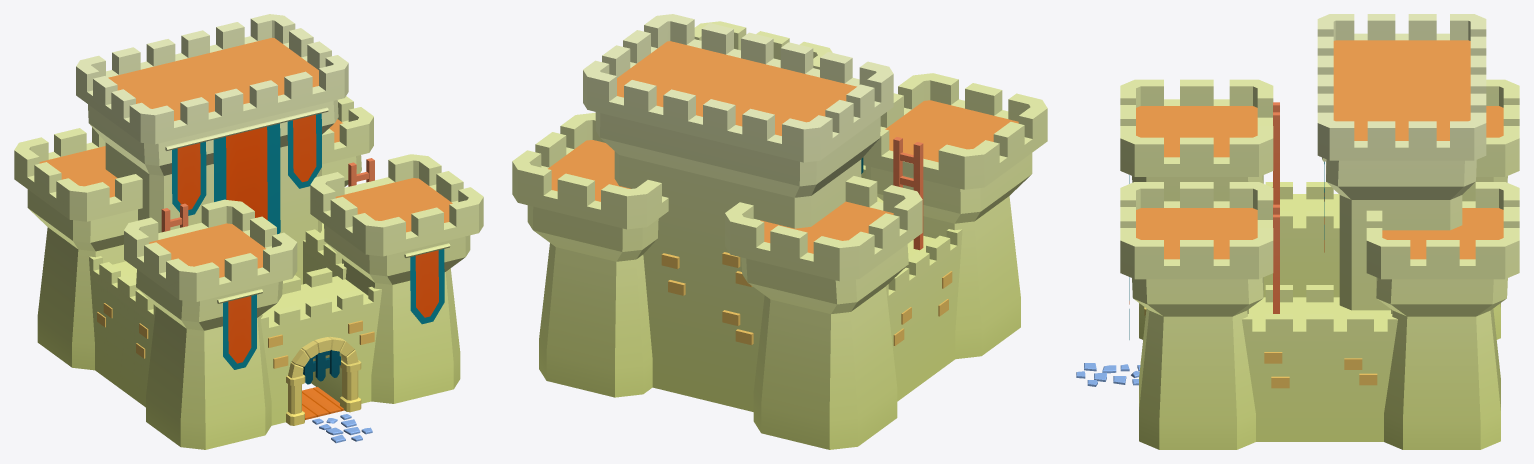
The model's file is Structure_Townhall_lvl01.fbx.
3 renders of one model, left to right at view 1: azimuth 30°, elevation 25°; view 2: azimuth 150°, elevation 25°; view 3: azimuth 270°, elevation 25°, orthographic. The views are drawn at different scales.
Parts seen in each view (by area): view 1: Structure_Townhall_lvl01; view 2: Structure_Townhall_lvl01; view 3: Structure_Townhall_lvl01.
Part boxes in pixels (x1,y1,x2,y2): Structure_Townhall_lvl01: [14, 14, 483, 449]; Structure_Townhall_lvl01: [512, 14, 1047, 449]; Structure_Townhall_lvl01: [1076, 14, 1519, 449].
Bounding box in the file's own units: 1943 × 1650 × 2181.
